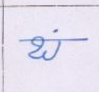anusvara: (53, 30, 58, 33)
